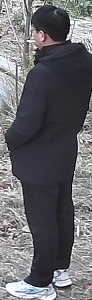smoking: (15, 9, 84, 93)
